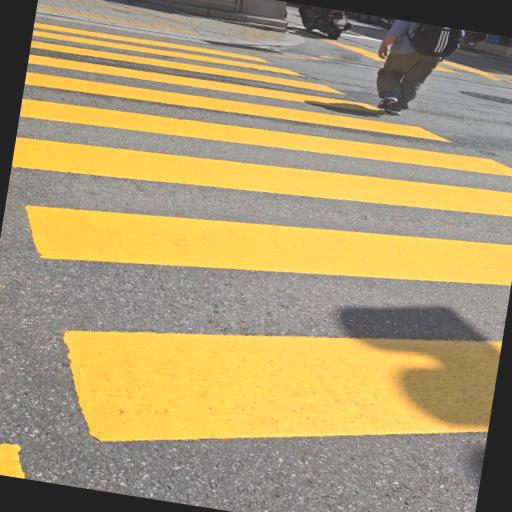yellow-crosswalk: (0, 6, 512, 512), (307, 21, 512, 96)
